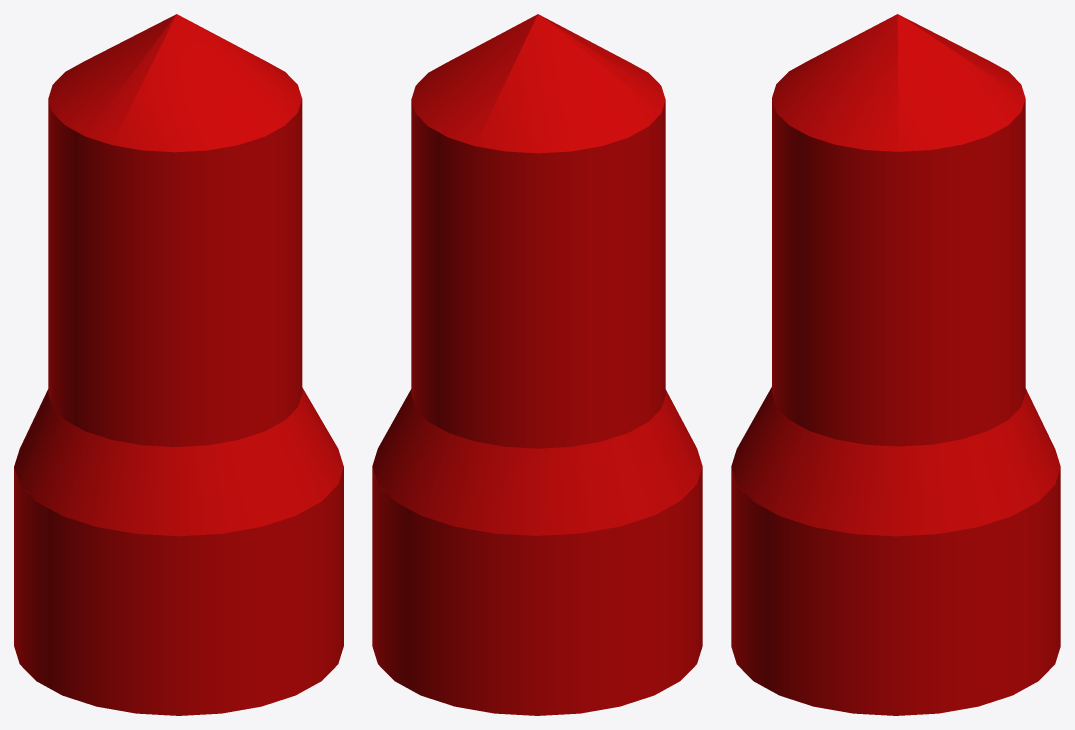
File: red_buoy_marker.dae
The picture shows the model from 3 angles, left to right: view 1: azimuth 30°, elevation 25°; view 2: azimuth 150°, elevation 25°; view 3: azimuth 270°, elevation 25°; orthographic projection.
Parts seen in each view (by area): view 1: SketchUp (×3); view 2: SketchUp (×3); view 3: SketchUp (×3).
Boxes of the visible parts, x1,y1,x2,y2 form: SketchUp (×3): [14, 14, 343, 715]; SketchUp (×3): [372, 14, 702, 715]; SketchUp (×3): [731, 14, 1060, 715].
Size of the model in its own units: 37 by 37 by 78.25.
